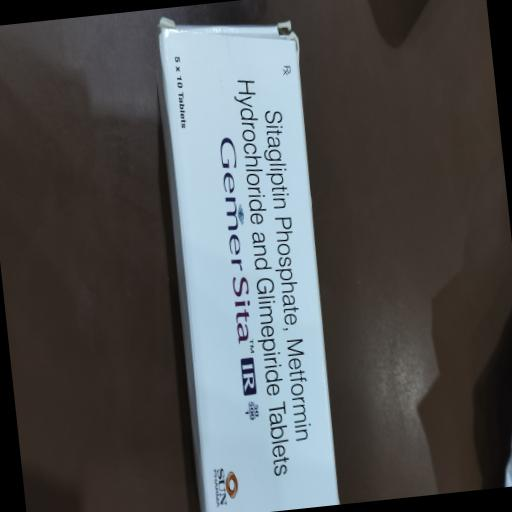Sitagliptin-Phosphate: (196, 58, 325, 500)
medicine: (150, 27, 341, 512)
